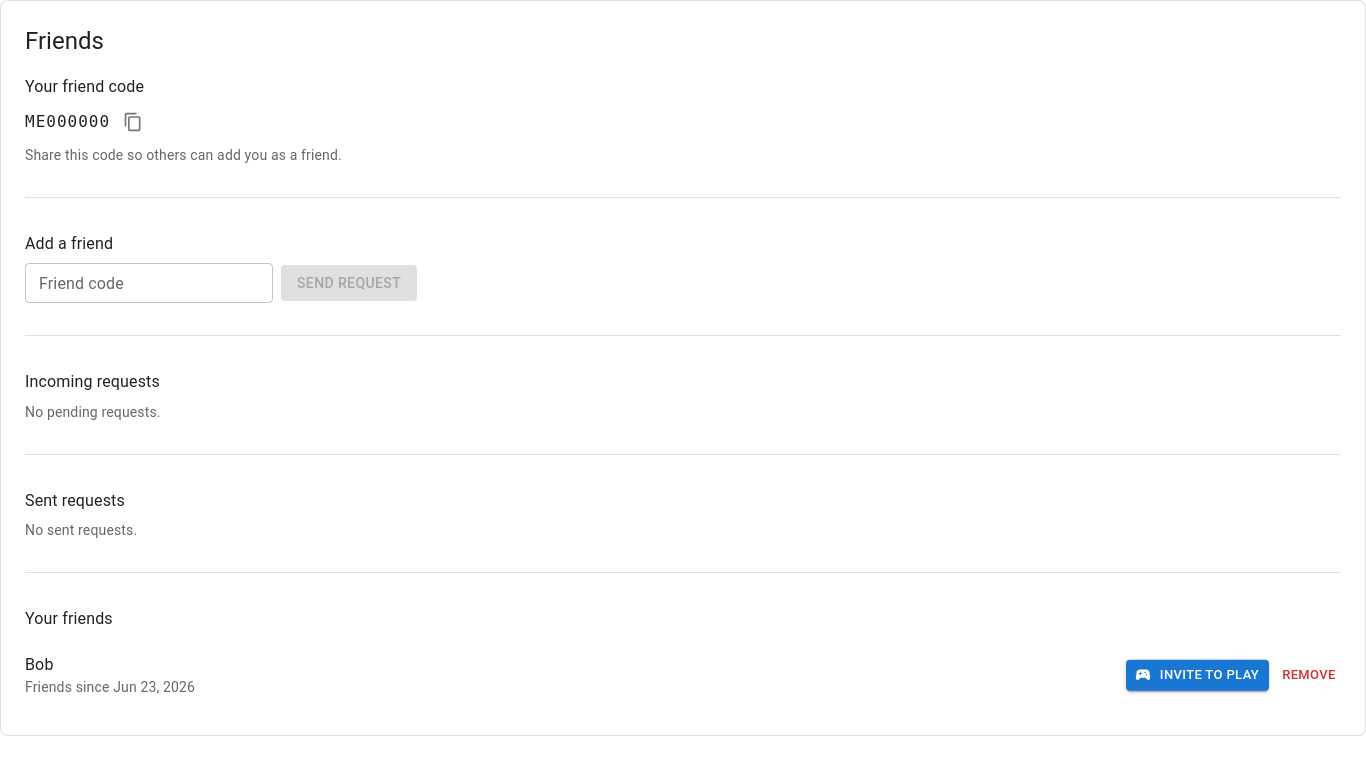
FriendsSection › surfaces a Snackbar when the create-room step fails
What coordinates should you click on to do the following:
click the button with aria-label "invite bob to play"
I would click on:
 (1197, 675)
Its box is [1126, 660, 1269, 690].
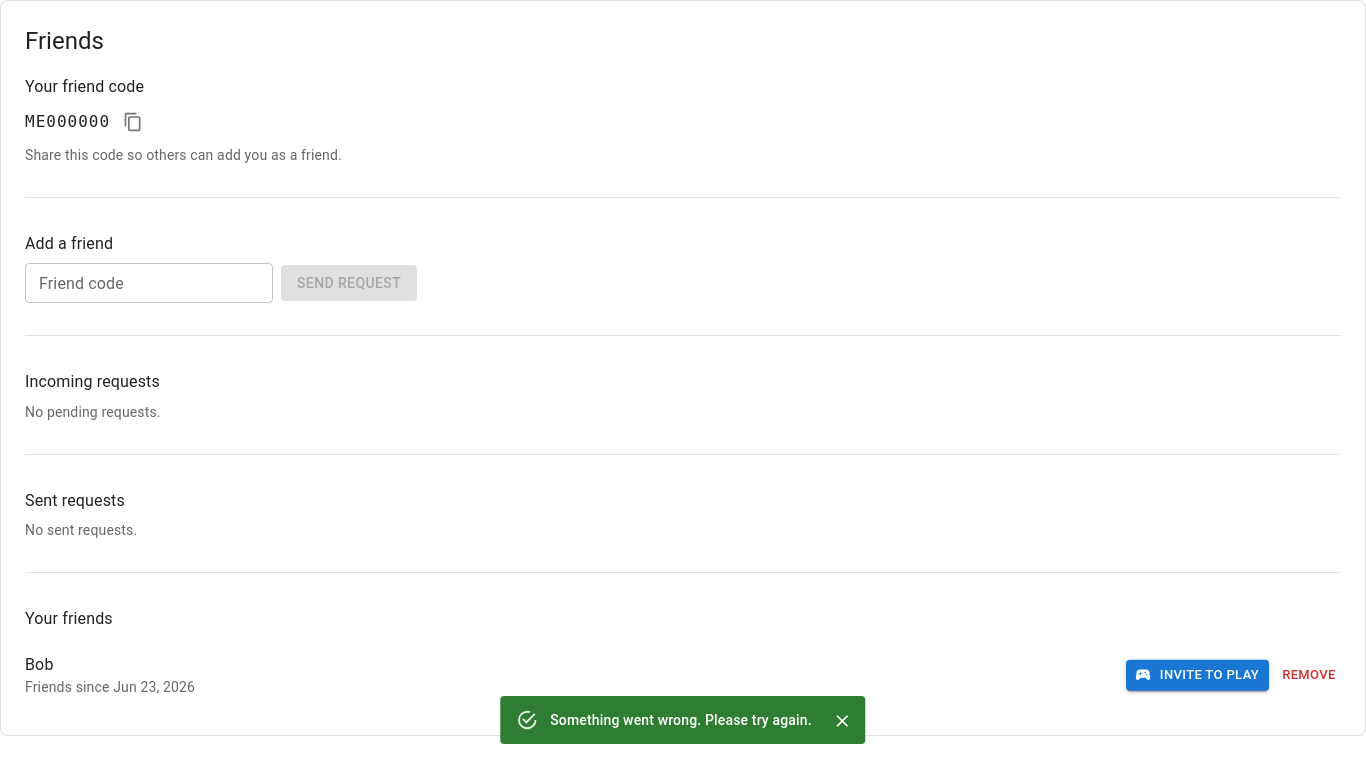
Expected: the text "Something went wrong. Please try again." is shown, [550, 712, 812, 728]
